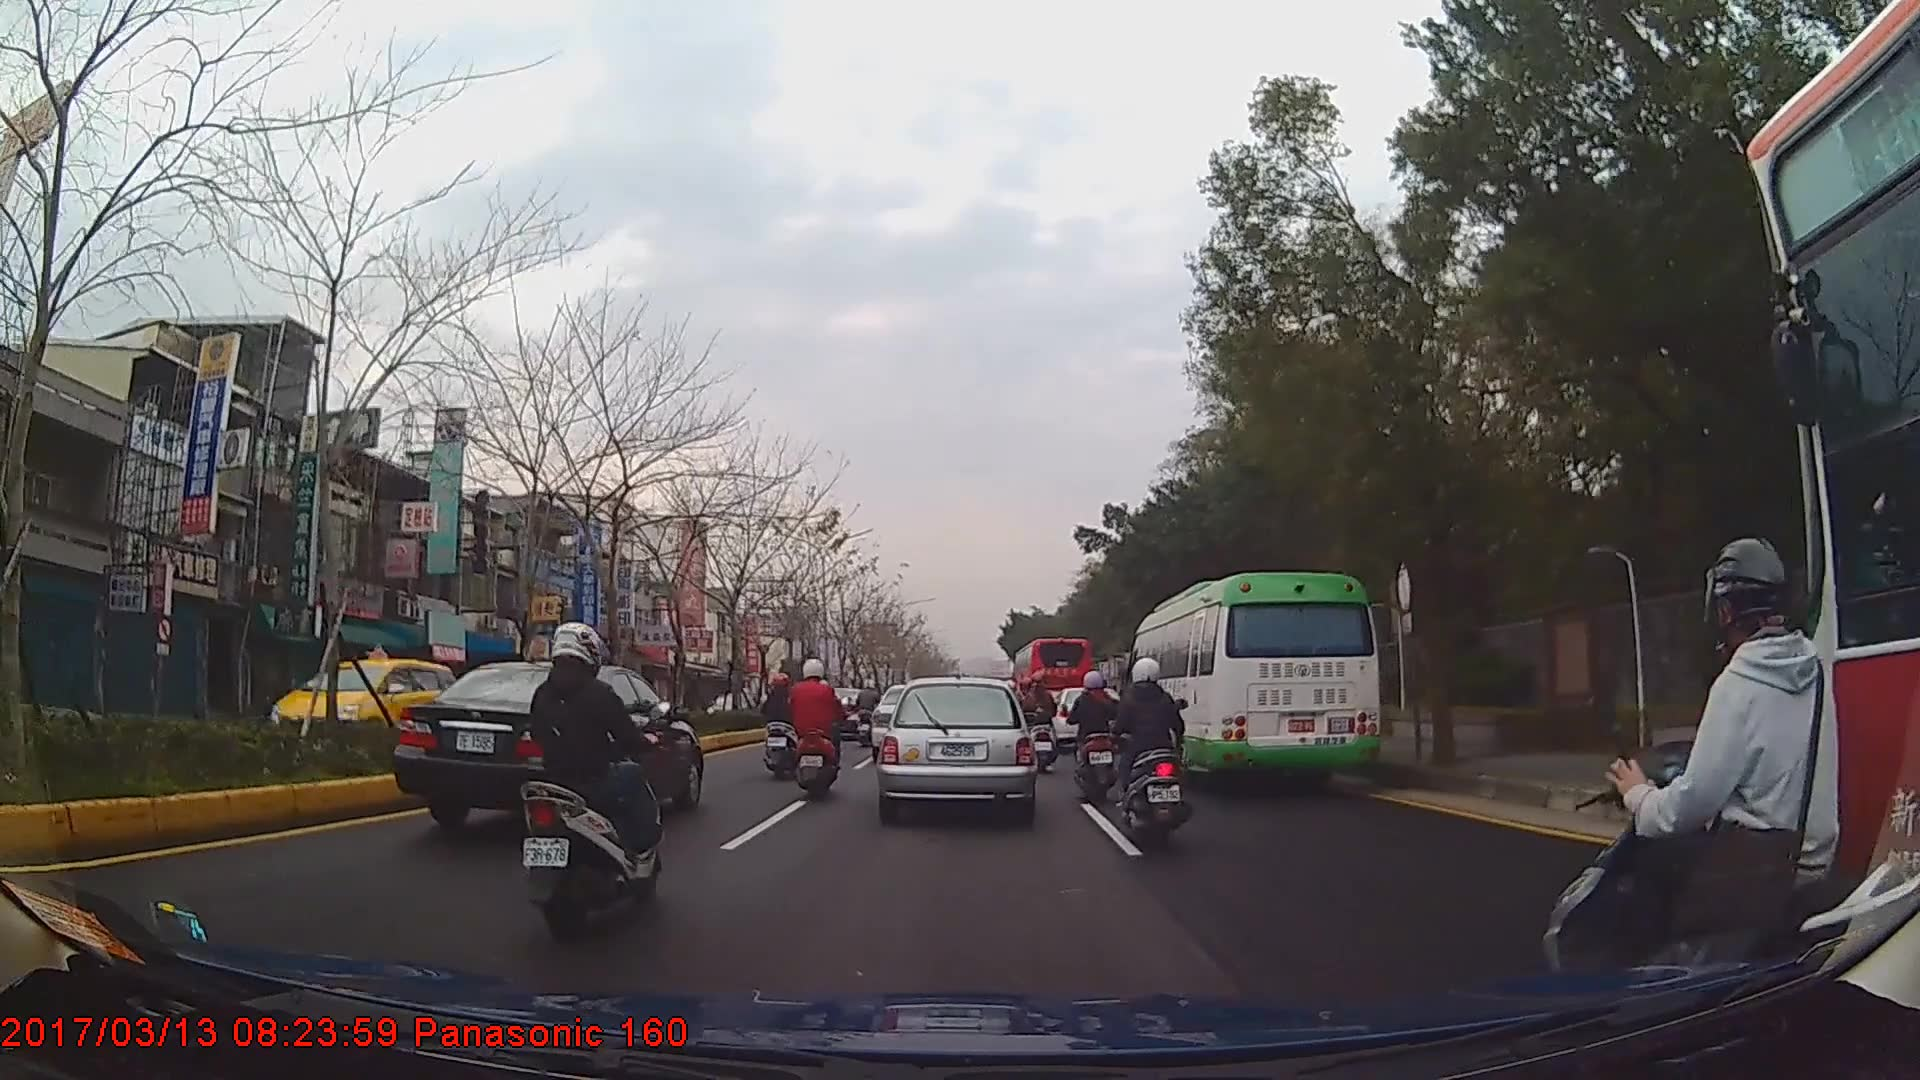rider: (1541, 530, 1911, 1019), (519, 618, 670, 935), (1115, 656, 1195, 853), (787, 657, 842, 801), (1065, 668, 1123, 805), (762, 672, 802, 780), (1017, 670, 1056, 773), (856, 679, 881, 747)
vehicle: (1123, 572, 1382, 797), (393, 659, 705, 836), (258, 640, 468, 763), (876, 676, 1034, 821), (1011, 632, 1095, 728)
